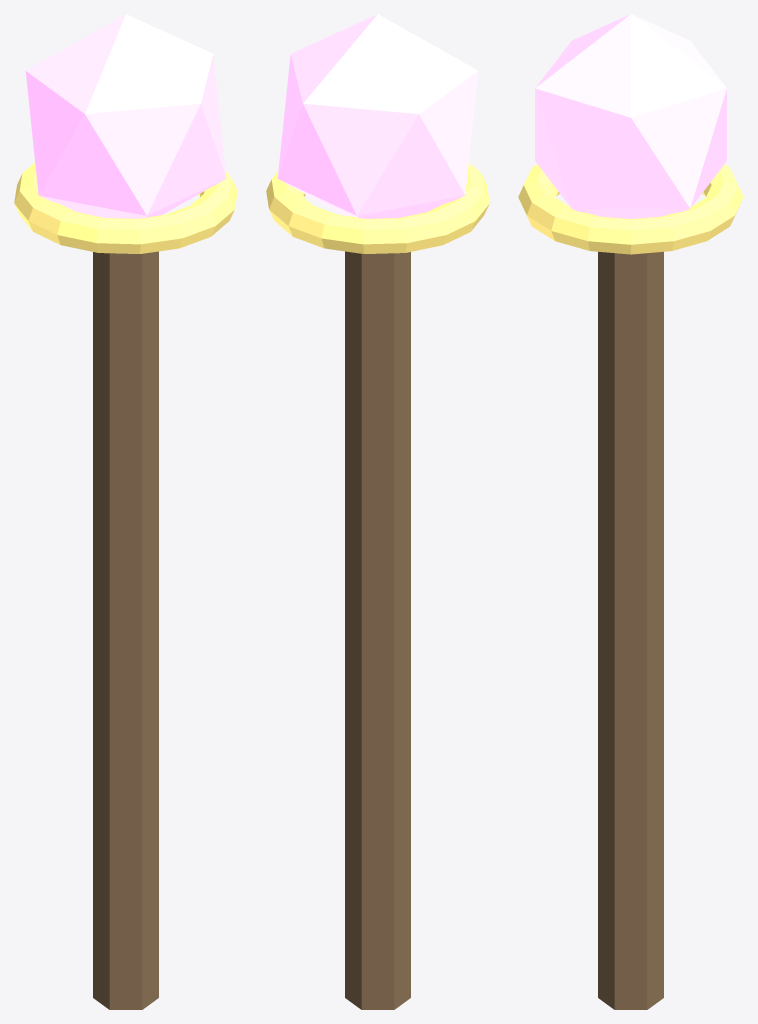
The model's file is staff.glb.
3 renders of one model, left to right at view 1: azimuth 30°, elevation 25°; view 2: azimuth 150°, elevation 25°; view 3: azimuth 270°, elevation 25°, orthographic.
Visible parts, largest first — view 1: StaffShaft; view 2: StaffShaft; view 3: StaffShaft.
Boxes of the visible parts, x1,y1,x2,y2 form: StaffShaft: (14,14,237,1009); StaffShaft: (266,14,489,1009); StaffShaft: (518,14,743,1009).
Size of the model in its own units: 0.48 by 2.31 by 0.48.
